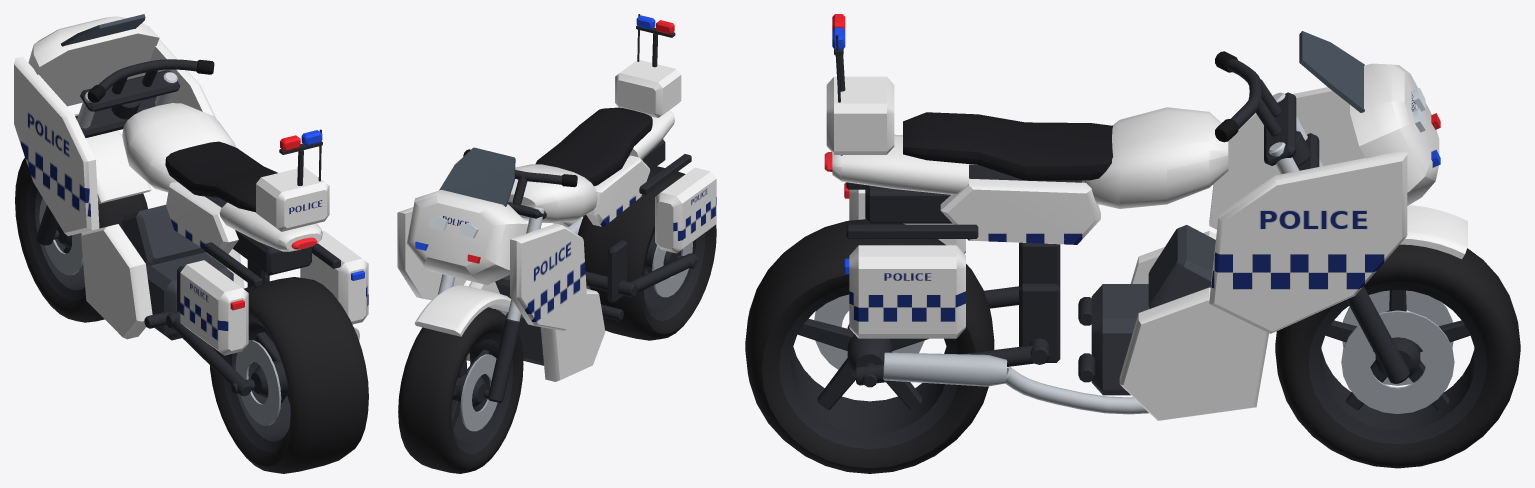
Rendered from MotorcycleTag_Police.obj.
The picture shows the model from 3 angles, left to right: view 1: azimuth 30°, elevation 25°; view 2: azimuth 150°, elevation 25°; view 3: azimuth 270°, elevation 25°; orthographic projection. The views are drawn at different scales.
Visible parts, largest first — view 1: Bodywork, RearWheel, Panniers, FrontWheel, Engine, Seat, Frame, Fork, FrontFender, Handlebars, Swingarm, Windshield (+2 smaller); view 2: Bodywork, FrontWheel, RearWheel, Panniers, Seat, Windshield, FrontFender, Fork, Frame, Swingarm, Engine, Handlebars (+1 smaller); view 3: Bodywork, FrontWheel, RearWheel, Panniers, Frame, Seat, Engine, Exhaust, Fork, Windshield, Handlebars, FrontFender (+1 smaller).
Boxes of the visible parts, x1,y1,x2,y2 form: Bodywork: [14, 16, 322, 339]; RearWheel: [210, 277, 368, 473]; Panniers: [180, 129, 368, 355]; FrontWheel: [15, 158, 147, 322]; Engine: [121, 204, 233, 340]; Seat: [165, 141, 277, 212]; Frame: [111, 100, 340, 328]; Fork: [36, 70, 180, 245]; FrontFender: [74, 113, 151, 203]; Handlebars: [87, 59, 214, 102]; Swingarm: [166, 311, 255, 396]; Windshield: [61, 14, 145, 46]; Bodywork: [397, 110, 674, 381]; FrontWheel: [398, 307, 523, 473]; RearWheel: [578, 166, 716, 340]; Panniers: [552, 14, 716, 253]; Seat: [535, 107, 652, 186]; Windshield: [439, 147, 515, 206]; FrontFender: [415, 285, 511, 336]; Fork: [438, 202, 546, 402]; Frame: [583, 139, 691, 320]; Swingarm: [585, 253, 697, 296]; Engine: [494, 275, 590, 365]; Handlebars: [463, 149, 577, 204]; Bodywork: [832, 63, 1439, 420]; FrontWheel: [1275, 244, 1520, 468]; RearWheel: [745, 219, 994, 473]; Panniers: [826, 35, 965, 338]; Frame: [846, 131, 1311, 382]; Seat: [903, 112, 1113, 180]; Engine: [1091, 225, 1215, 395]; Exhaust: [883, 352, 1148, 414]; Fork: [1264, 92, 1409, 383]; Windshield: [1299, 31, 1364, 112]; Handlebars: [1215, 51, 1281, 142]; FrontFender: [1400, 205, 1467, 259].
Bounding box in the file's own units: 2.42 × 5.1 × 8.22.
Materials: 1 (1 with a texture image).
